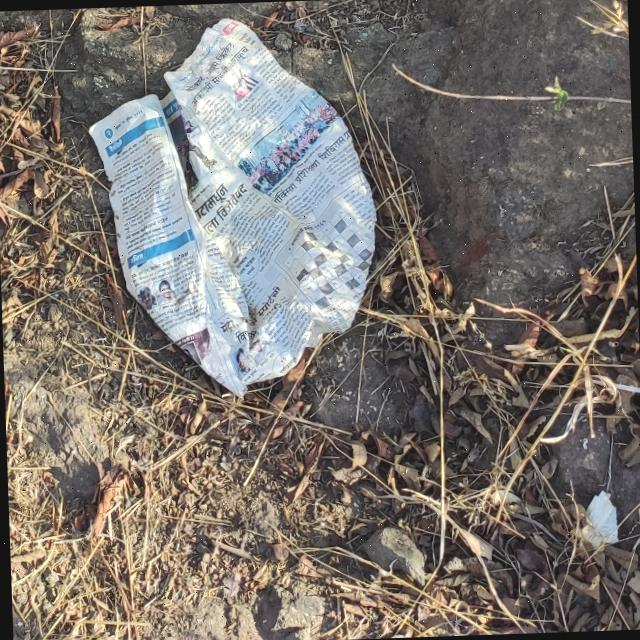trash: (84, 11, 383, 402), (86, 90, 245, 402)
